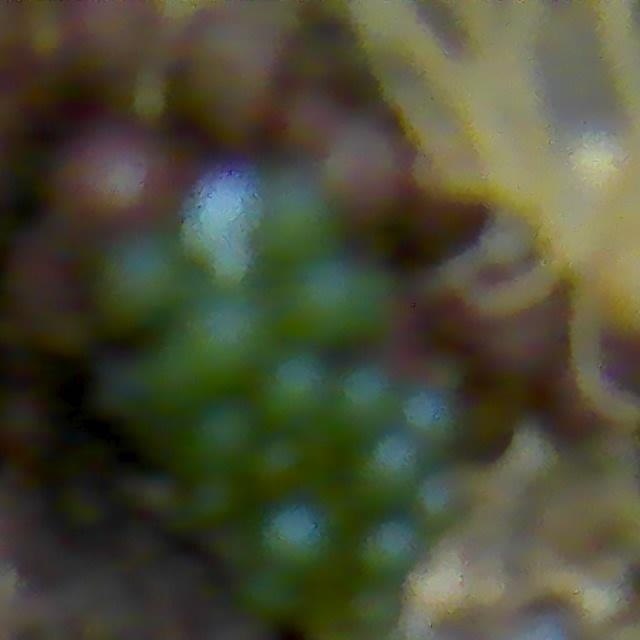SeaGrape: (286, 253, 391, 348), (179, 290, 273, 385), (180, 178, 265, 272), (99, 232, 183, 320), (257, 176, 338, 260), (259, 348, 335, 428), (188, 400, 257, 470), (359, 430, 424, 502), (360, 515, 429, 581), (263, 503, 330, 570), (336, 363, 399, 430), (398, 383, 461, 444)
